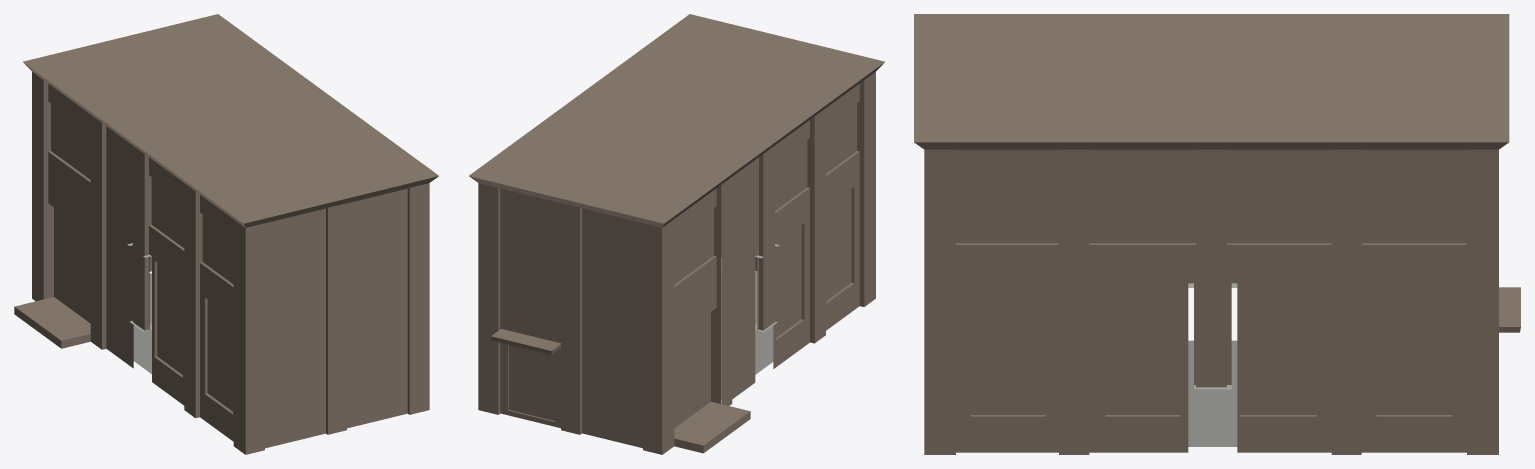
The model's file is factory-hall.zfix-v14.lod2.glb.
3 views of the same model, side by side, from view 1: azimuth 30°, elevation 25°; view 2: azimuth 150°, elevation 25°; view 3: azimuth 270°, elevation 25° (orthographic). The views are drawn at different scales.
Parts seen in each view (by area): view 1: factory_1_factory_1_0; view 2: factory_1_factory_1_0; view 3: factory_1_factory_1_0.
Boxes of the visible parts, x1,y1,x2,y2 form: factory_1_factory_1_0: (14,14,438,454); factory_1_factory_1_0: (469,14,884,454); factory_1_factory_1_0: (914,14,1520,454).
Size of the model in its own units: 14.59 by 14.96 by 26.
